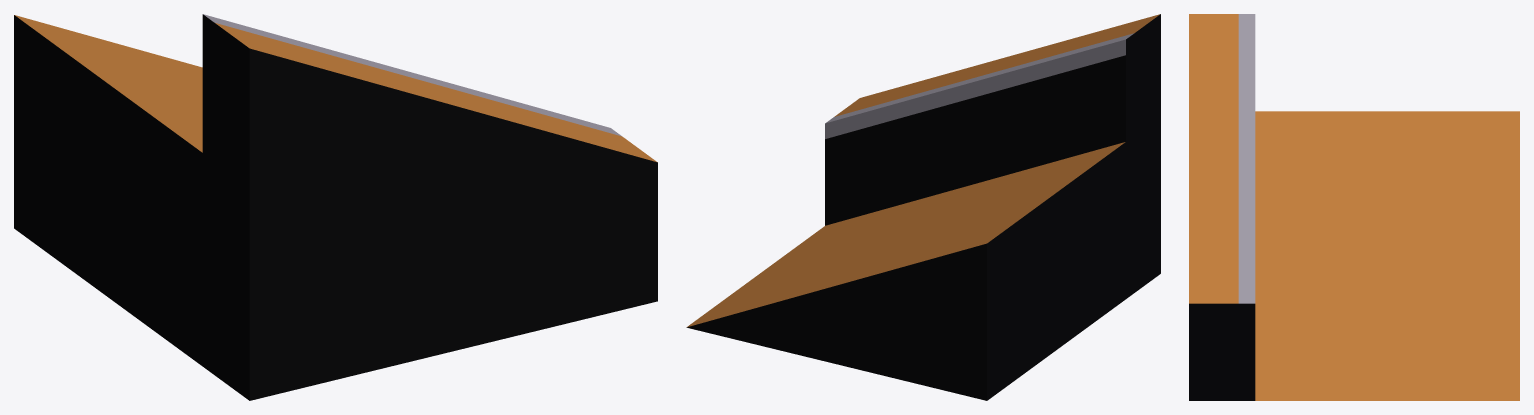
File: Ledge_Ramp_SML_L.obj
3 views of the same model, side by side, from view 1: azimuth 30°, elevation 25°; view 2: azimuth 150°, elevation 25°; view 3: azimuth 270°, elevation 25° (orthographic). The views are drawn at different scales.
Parts seen in each view (by area): view 1: Ledge_Ramp_SML_L; view 2: Ledge_Ramp_SML_L; view 3: Ledge_Ramp_SML_L.
Boxes of the visible parts, box(x1,y1,x2,y2) form: Ledge_Ramp_SML_L: box(14, 14, 657, 400); Ledge_Ramp_SML_L: box(686, 14, 1160, 400); Ledge_Ramp_SML_L: box(1189, 14, 1519, 400).
Bounding box in the file's own units: 10 × 8.25 × 10.
